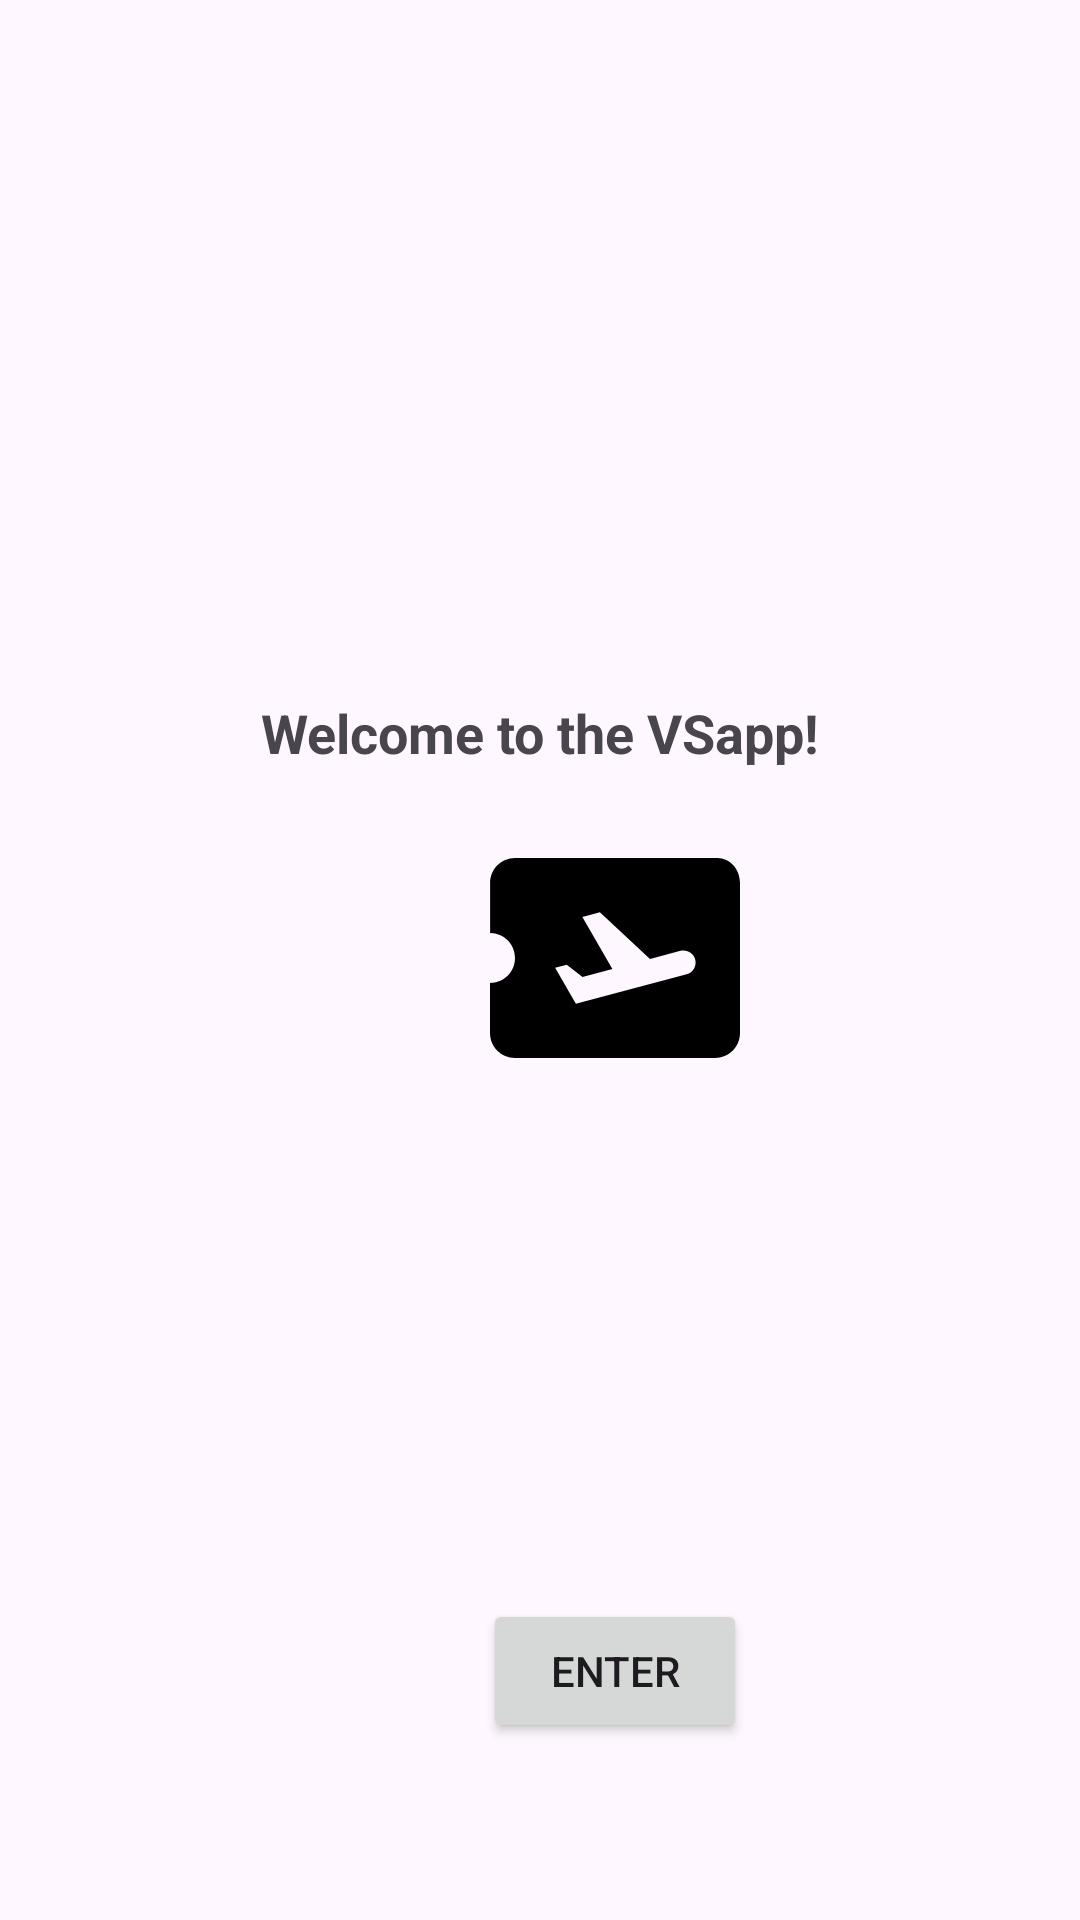

Icons on this 1080×1920 Android screen, each with the point to tap as (x,y):
airplane ticket: (615,958)
